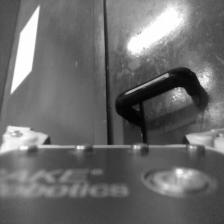Door Handle: (114, 66, 202, 123)
